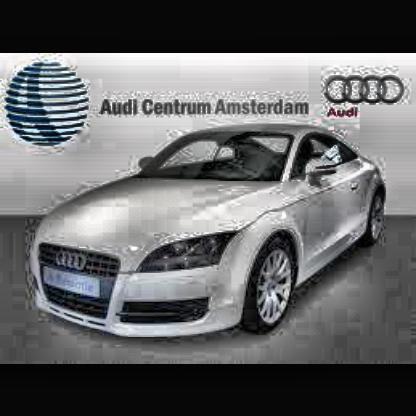Audi TT Hatchback 2011: (25, 124, 394, 348)
